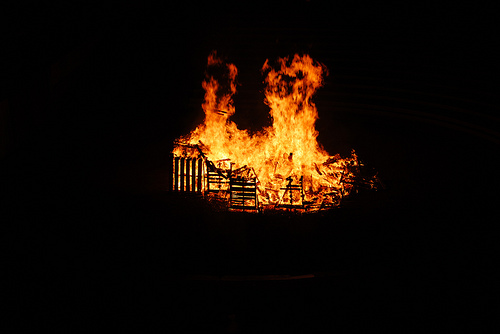fire: (169, 61, 362, 216)
